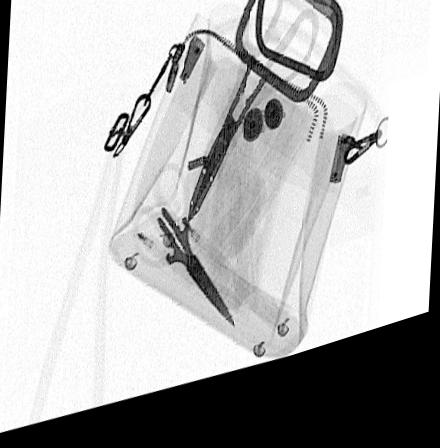Scissors: (189, 0, 320, 236), (130, 172, 236, 340)
